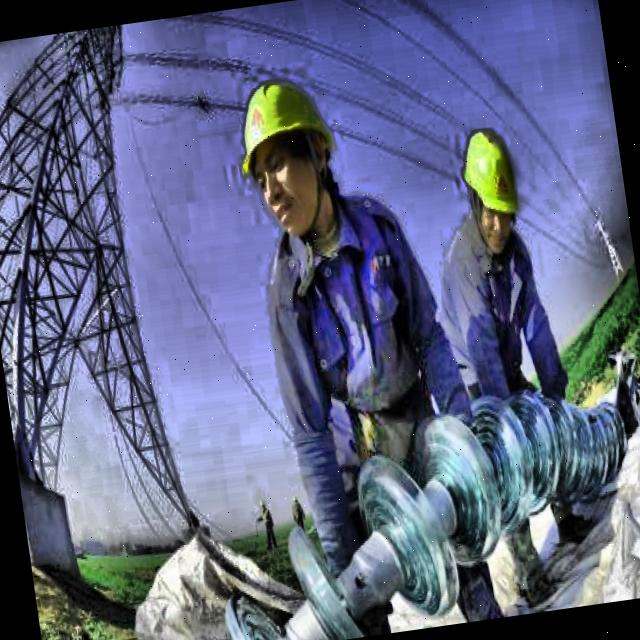helmet: (221, 58, 354, 253), (458, 120, 536, 270)
